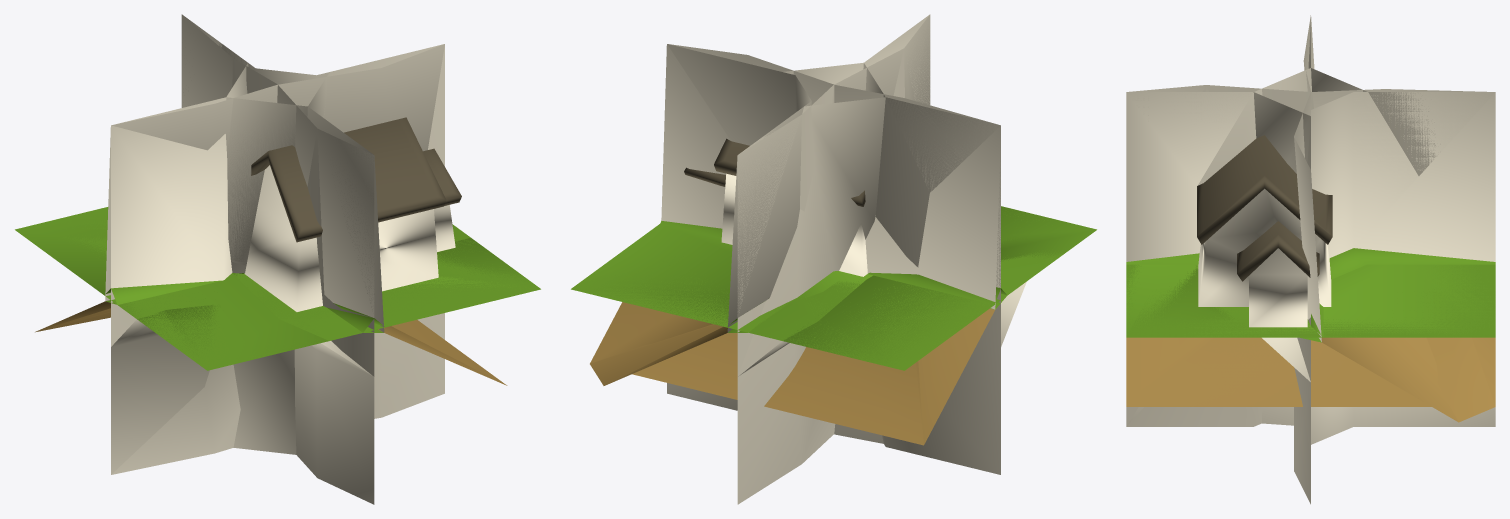
File: wfc_modules.glb
3 views of the same model, side by side, from view 1: azimuth 30°, elevation 25°; view 2: azimuth 150°, elevation 25°; view 3: azimuth 270°, elevation 25° (orthographic). The views are drawn at different scales.
Visible parts, largest first — view 1: wfc_module_11, wfc_module_0, wfc_module_17, wfc_module_6, wfc_module_5, wfc_module_16, wfc_module_13, wfc_module_7, wfc_module_4, wfc_module_12, wfc_module_1, wfc_module_9 (+6 smaller); view 2: wfc_module_13, wfc_module_17, wfc_module_10, wfc_module_5, wfc_module_8, wfc_module_19, wfc_module_0, wfc_module_7, wfc_module_9, wfc_module_11, wfc_module_3, wfc_module_2 (+6 smaller); view 3: wfc_module_11, wfc_module_12, wfc_module_19, wfc_module_8, wfc_module_2, wfc_module_5, wfc_module_4, wfc_module_1, wfc_module_10, wfc_module_15, wfc_module_16, wfc_module_17 (+3 smaller).
Part boxes in pixels (box(x1,y1,x2,y2)): wfc_module_11: box(107, 117, 539, 366); wfc_module_0: box(63, 207, 374, 504); wfc_module_17: box(111, 14, 340, 359); wfc_module_6: box(111, 305, 373, 474); wfc_module_5: box(181, 14, 538, 326); wfc_module_16: box(111, 44, 444, 474); wfc_module_13: box(35, 44, 444, 331); wfc_module_7: box(15, 99, 536, 322); wfc_module_4: box(64, 213, 539, 370); wfc_module_12: box(106, 97, 504, 384); wfc_module_1: box(92, 211, 540, 369); wfc_module_9: box(181, 16, 374, 376); wfc_module_13: box(632, 44, 1000, 445); wfc_module_17: box(737, 97, 1096, 504); wfc_module_10: box(863, 63, 1000, 474); wfc_module_5: box(571, 15, 930, 326); wfc_module_8: box(573, 44, 811, 322); wfc_module_19: box(590, 44, 811, 384); wfc_module_0: box(738, 206, 1053, 434); wfc_module_7: box(572, 97, 1000, 363); wfc_module_9: box(737, 15, 930, 375); wfc_module_11: box(576, 138, 979, 366); wfc_module_3: box(918, 251, 1063, 444); wfc_module_2: box(748, 207, 1042, 370); wfc_module_11: box(1126, 135, 1495, 336); wfc_module_12: box(1126, 92, 1348, 406); wfc_module_19: box(1321, 92, 1495, 422); wfc_module_8: box(1311, 92, 1495, 337); wfc_module_2: box(1144, 338, 1431, 406); wfc_module_5: box(1126, 85, 1495, 337); wfc_module_4: box(1126, 264, 1495, 422); wfc_module_1: box(1126, 264, 1495, 337); wfc_module_10: box(1126, 68, 1311, 426); wfc_module_15: box(1126, 264, 1495, 444); wfc_module_16: box(1253, 92, 1310, 504); wfc_module_17: box(1127, 18, 1440, 425).
Size of the model in its own units: 1 by 1 by 1.
